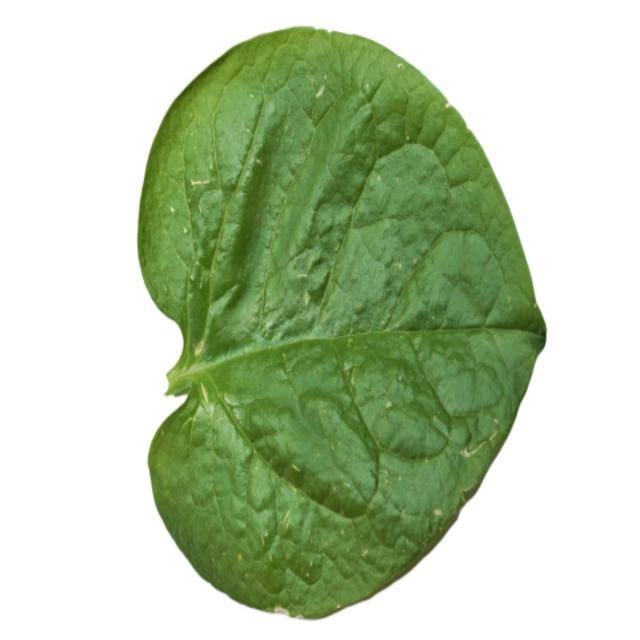Medicinal-Basale: (136, 23, 548, 619)
